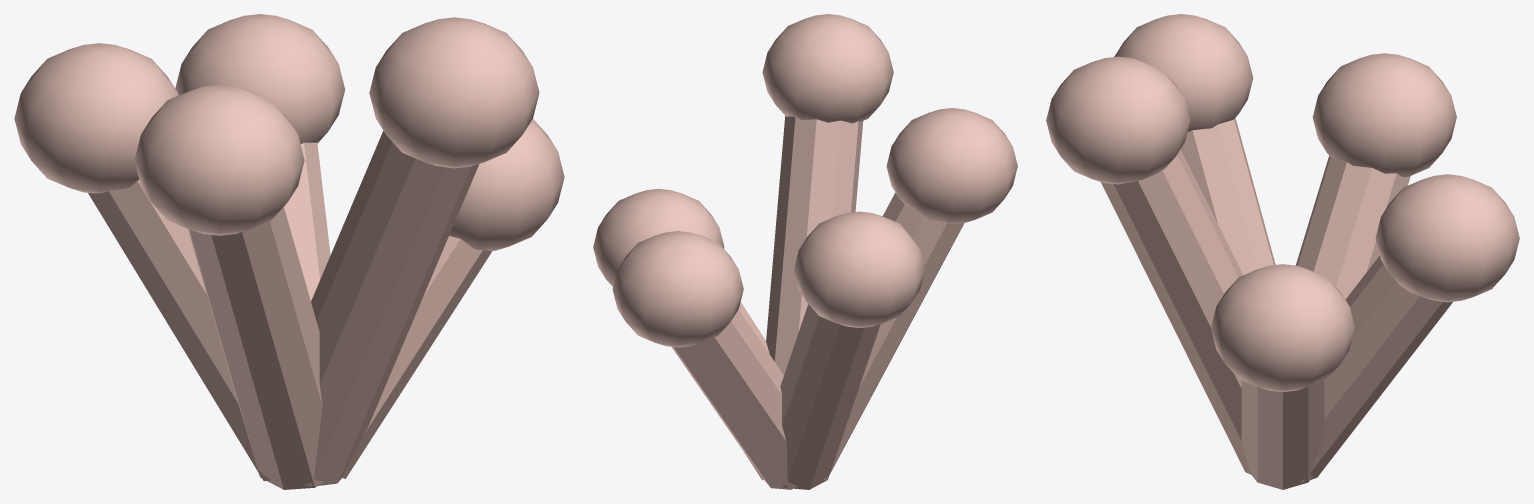
File: coral.glb
The picture shows the model from 3 angles, left to right: view 1: azimuth 30°, elevation 25°; view 2: azimuth 150°, elevation 25°; view 3: azimuth 270°, elevation 25°; orthographic projection. The views are drawn at different scales.
Parts seen in each view (by area): view 1: coral_Sun_coral; view 2: coral_Sun_coral; view 3: coral_Sun_coral.
Part boxes in pixels (x1,y1,x2,y2): coral_Sun_coral: [14, 14, 564, 489]; coral_Sun_coral: [593, 14, 1017, 489]; coral_Sun_coral: [1046, 14, 1519, 489].
Size of the model in its own units: 0.9512 by 0.9962 by 0.9848.
